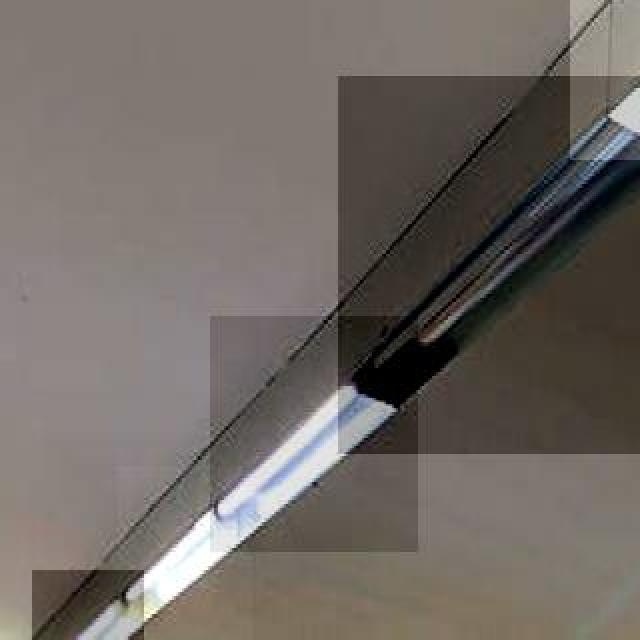fluorescent tube: (330, 80, 640, 452), (211, 333, 365, 540), (124, 506, 224, 618), (576, 0, 640, 162)
